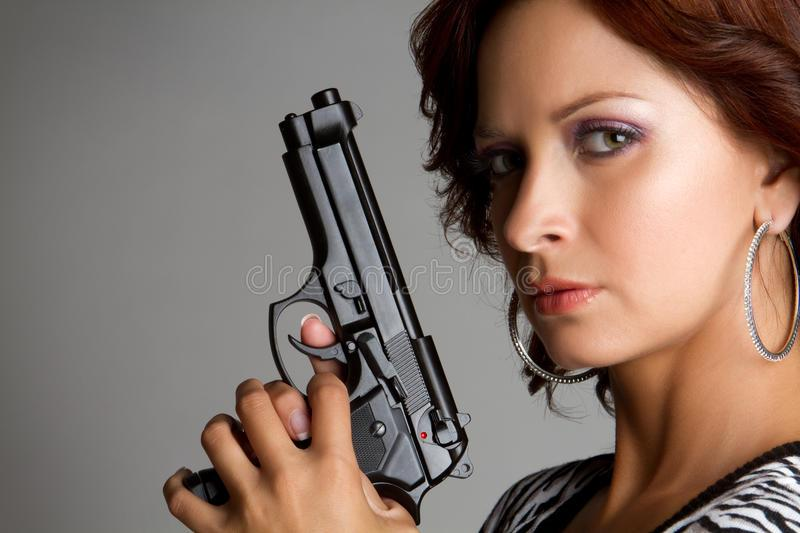criminal: (162, 0, 800, 533)
weapon: (178, 84, 478, 526)
